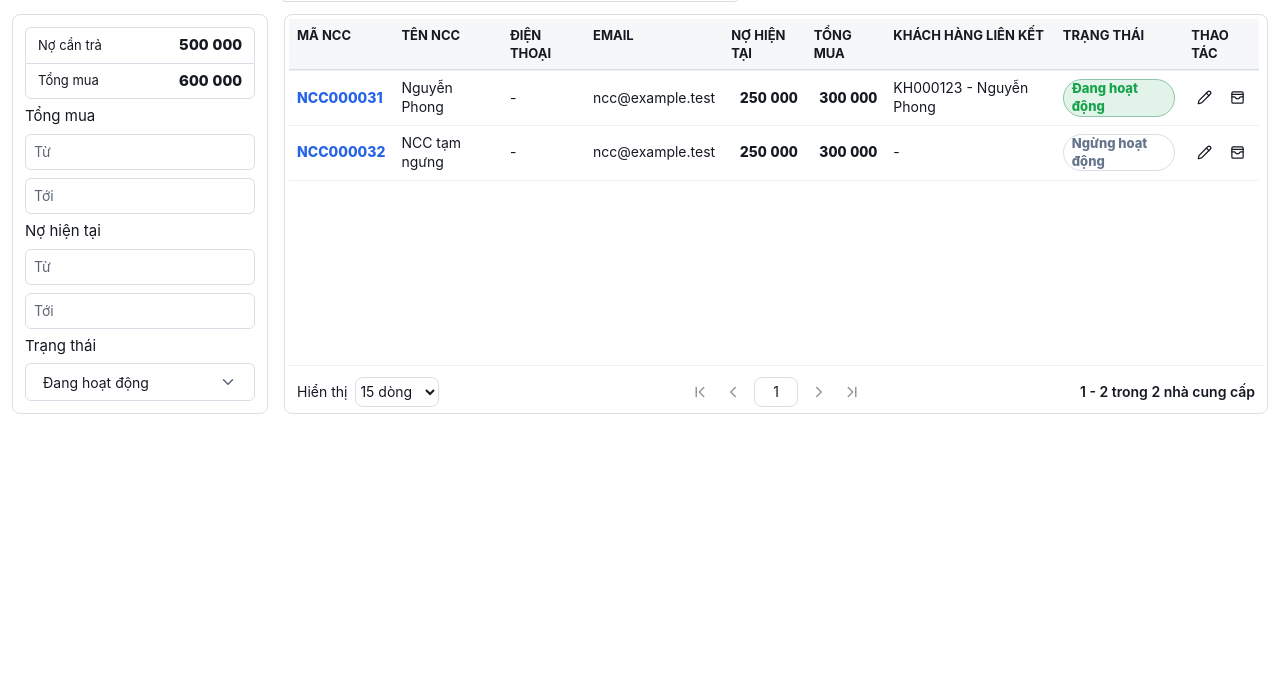
Test: clears stale supplier edit detail when switching rows fails
What coordinates should you click on to do the following:
click the button named "Sửa NCC000031"
I would click on:
 (1204, 98)
Its box is [1191,85,1217,111].
(page scrolled)
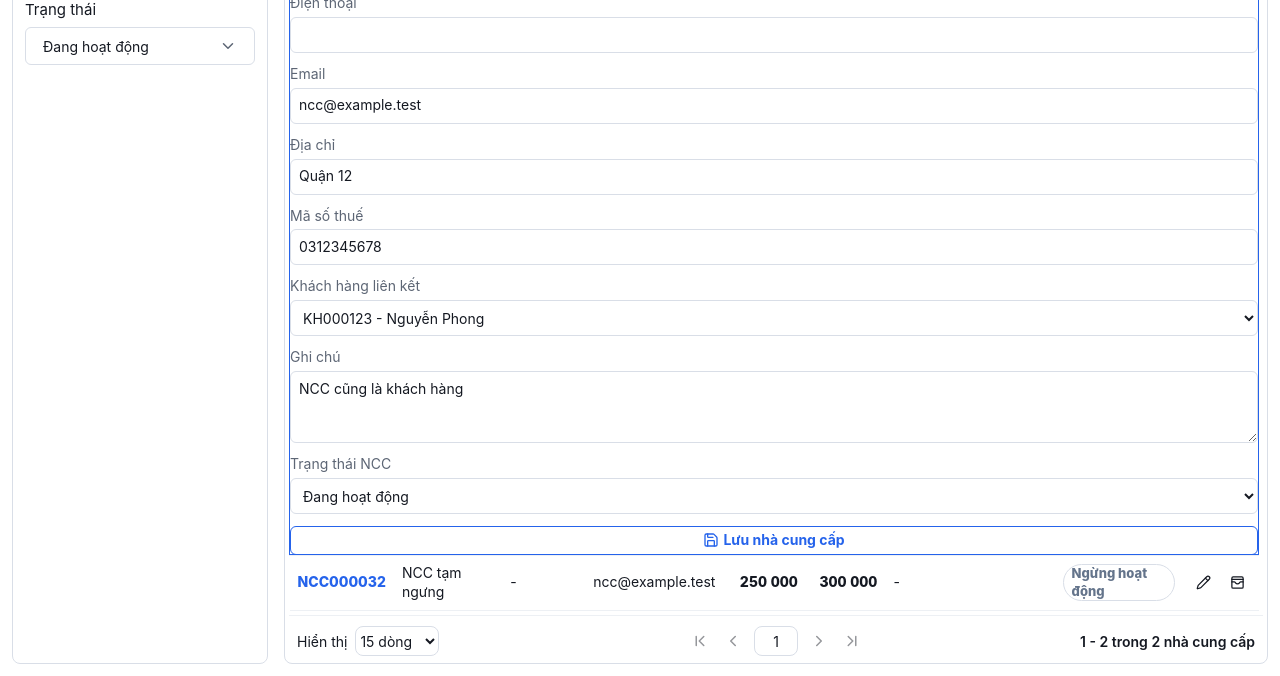
What coordinates should you click on to do the following:
click the button named "Sửa NCC000032"
I would click on:
 (1204, 583)
Its box is [1191,570,1216,596].
(page scrolled)
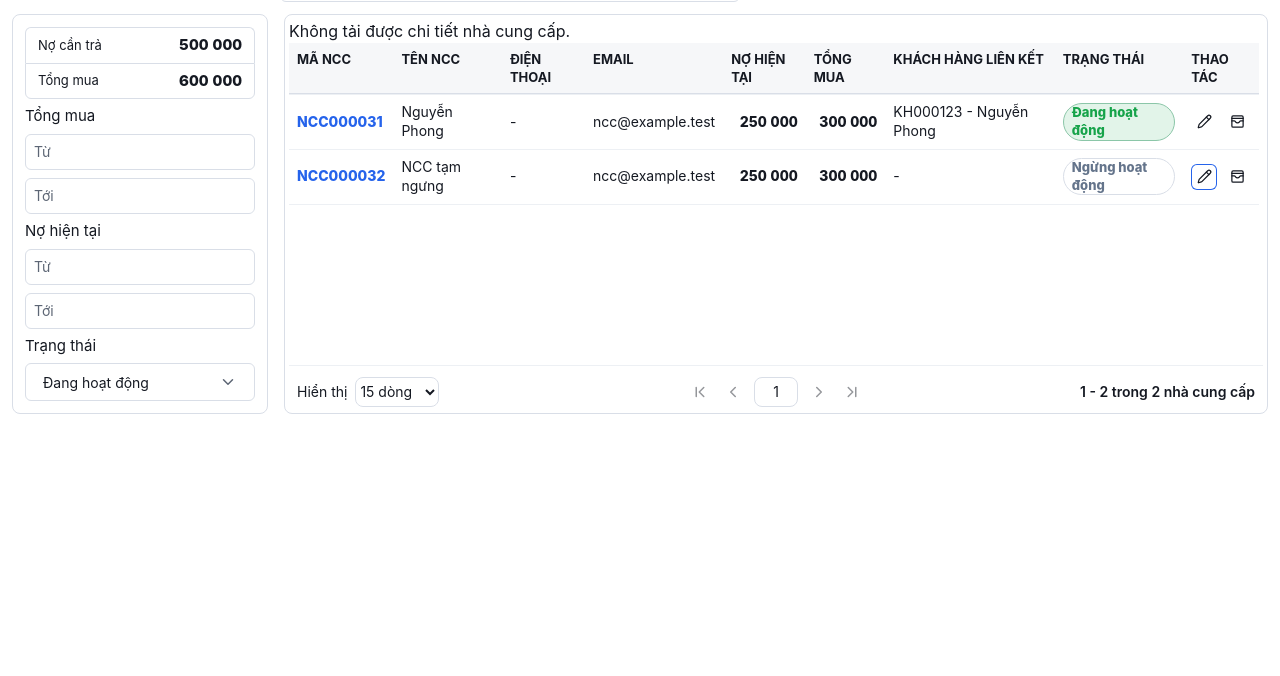
Expected: the message reads "Không tải được chi tiết nhà cung cấp.", [289,21,570,41]
